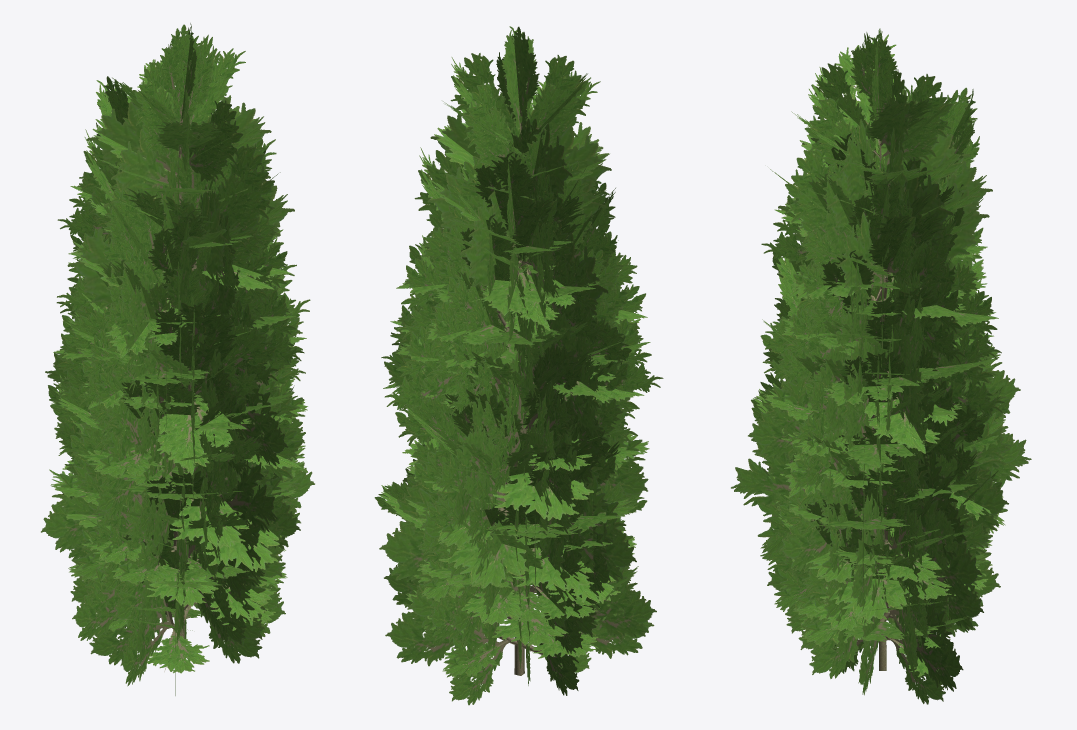
The model's file is LigustrumOvalifolium.glb.
3 views of the same model, side by side, from view 1: azimuth 30°, elevation 25°; view 2: azimuth 150°, elevation 25°; view 3: azimuth 270°, elevation 25° (orthographic).
Visible parts, largest first — view 1: Oval_Leaved_Privet__Realistic_LOD3; view 2: Oval_Leaved_Privet__Realistic_LOD3; view 3: Oval_Leaved_Privet__Realistic_LOD3.
Boxes of the visible parts, x1,y1,x2,y2 form: Oval_Leaved_Privet__Realistic_LOD3: [41, 23, 314, 695]; Oval_Leaved_Privet__Realistic_LOD3: [374, 26, 663, 705]; Oval_Leaved_Privet__Realistic_LOD3: [731, 28, 1031, 704].
Bounding box in the file's own units: 1.35 × 3.21 × 1.57.
Materials: 1 (1 with a texture image).
